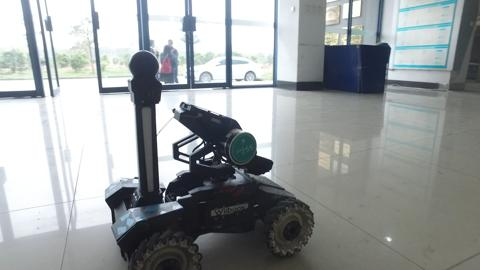chariot: (94, 50, 326, 270)
